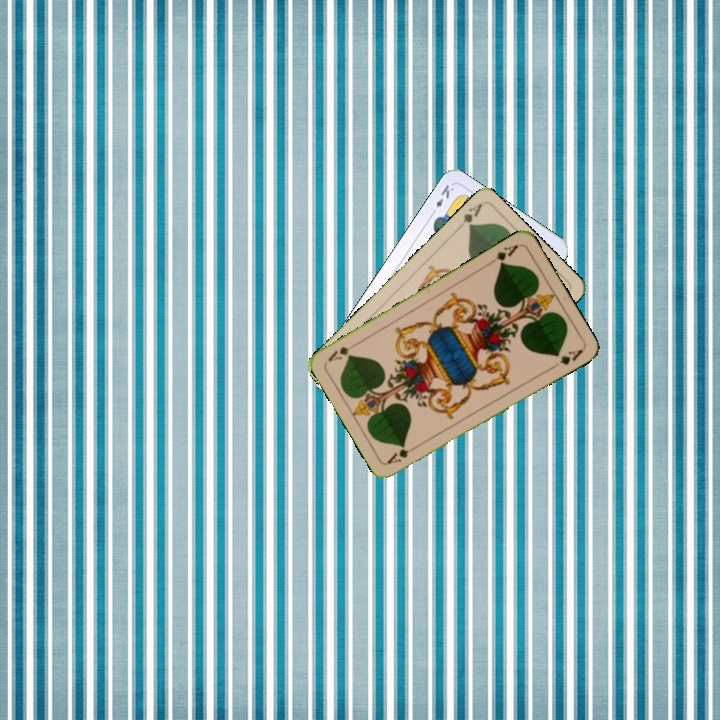EK: (427, 181, 457, 218)
GA: (484, 241, 521, 268), (383, 441, 421, 467), (459, 200, 485, 231)
